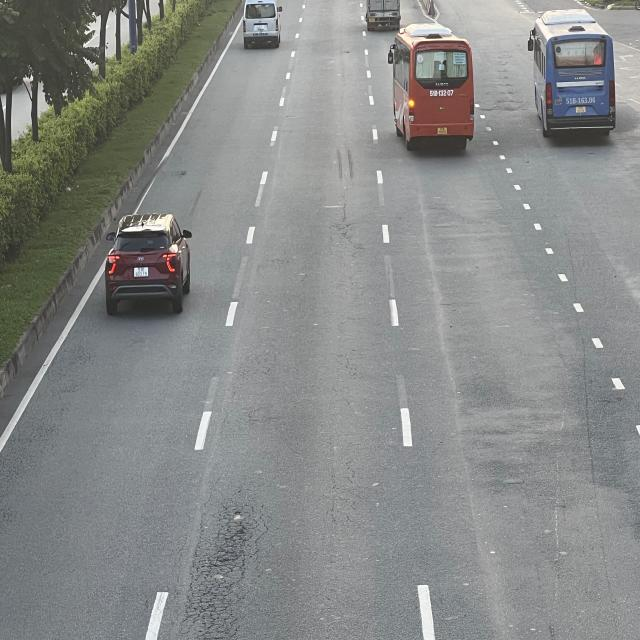car: (104, 216, 192, 317)
coach: (528, 13, 616, 139), (388, 24, 474, 149)
van: (244, 0, 284, 46)
